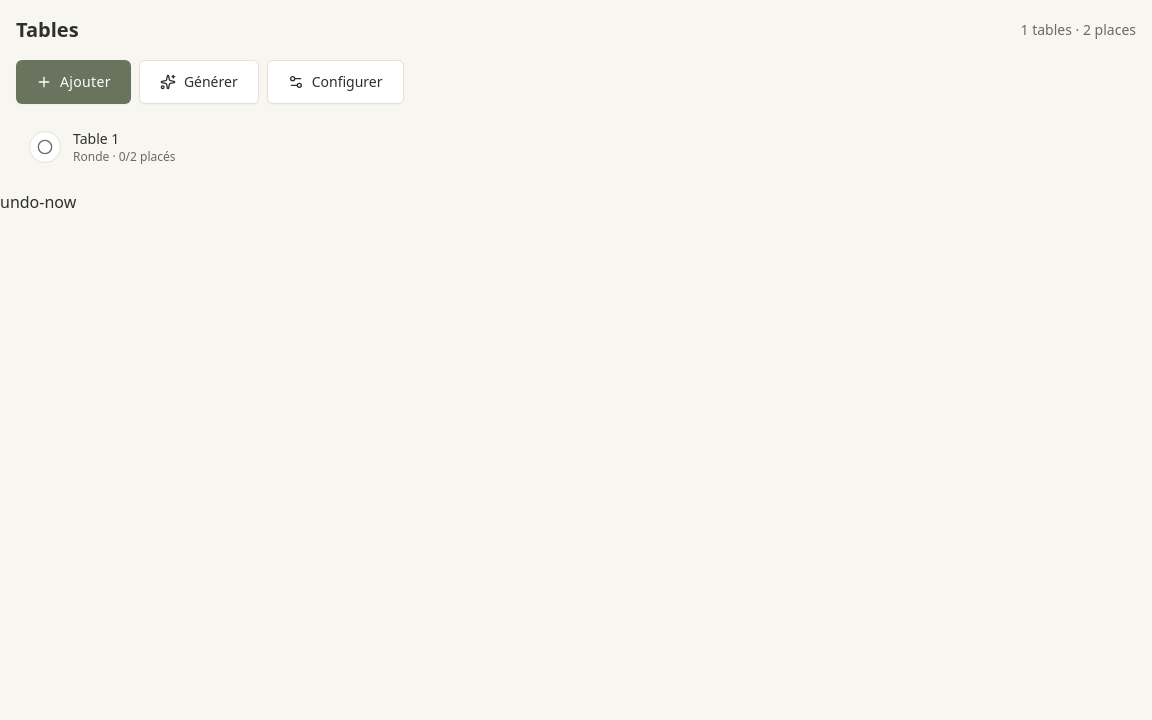
Test: TablesPanel generation › discards the preview without seating anyone
Click the button "Générer".
click(199, 82)  # box [139,60,259,104]
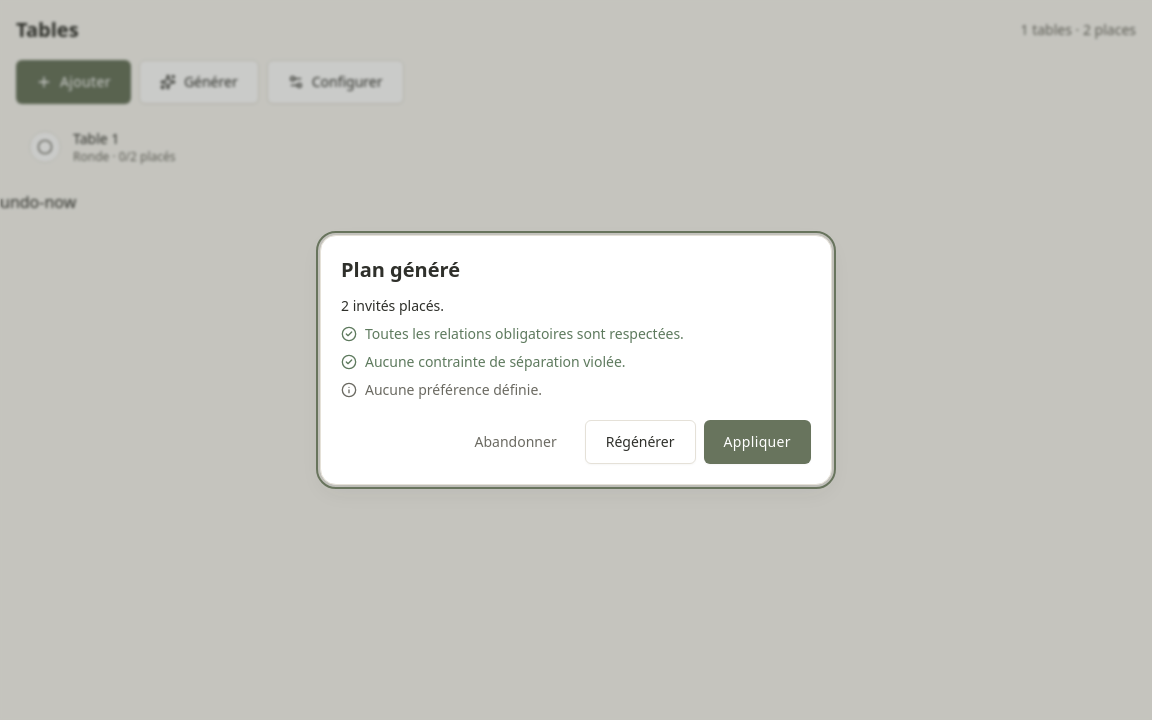
Check: the heading "Plan généré" is shown, box [341,256,460,283]
Click the button "Abandonner".
click(516, 442)  # box [454,420,577,464]
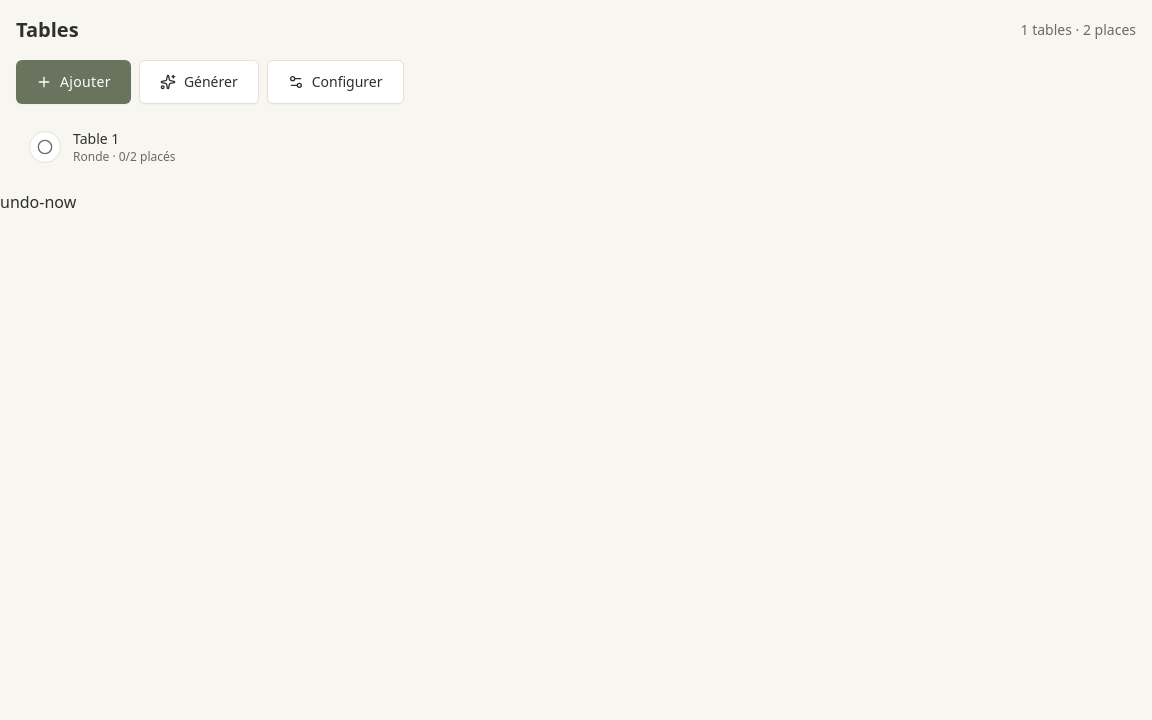
Check: the heading "Plan généré" is gone
